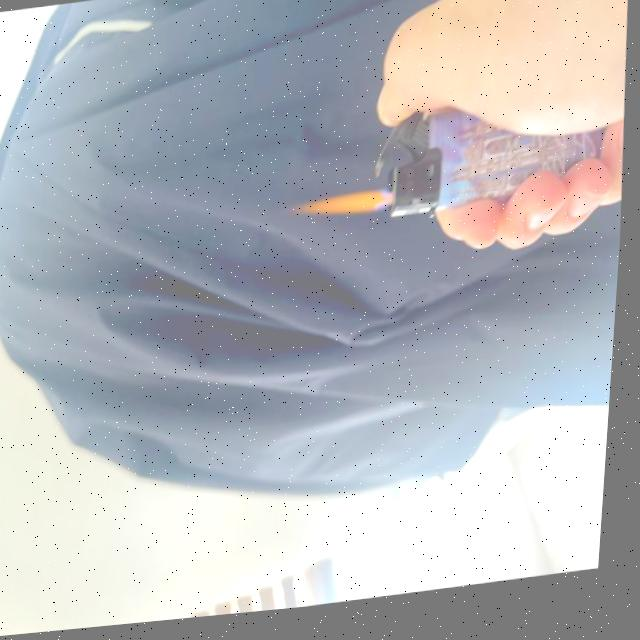Fire: (294, 194, 391, 228)
